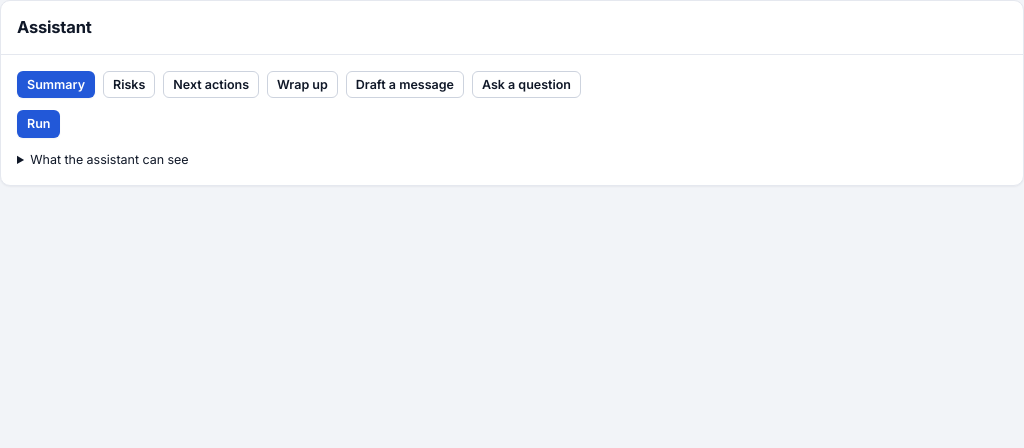
AssistPanel › runs an assistance request and separates facts from model output
Click the button "Run" at {"x": 39, "y": 124}, box [17,110,60,138]
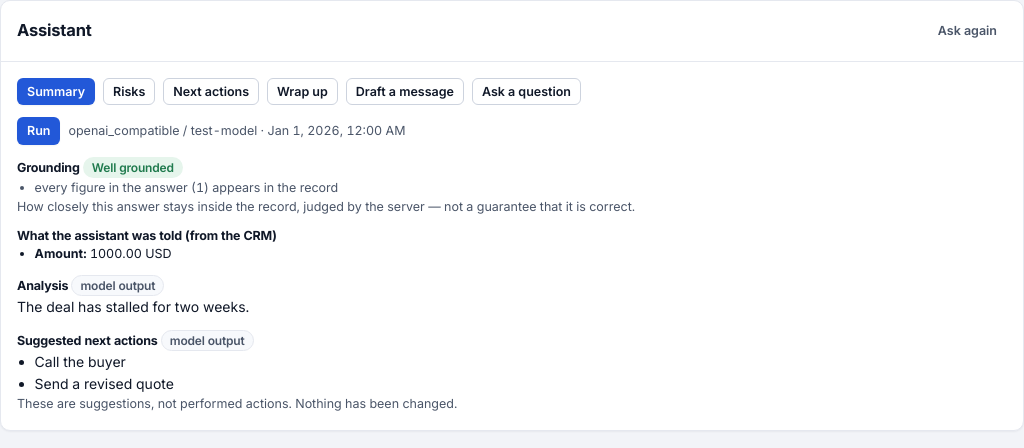
Result: the heading "What the assistant was told (from the CRM)" is shown at [17,228,277,243]
Result: the list item "Amount: 1000.00 USD" is shown at [35,246,172,261]
Result: the text "The deal has stalled for two weeks." is shown at [17,298,249,315]
